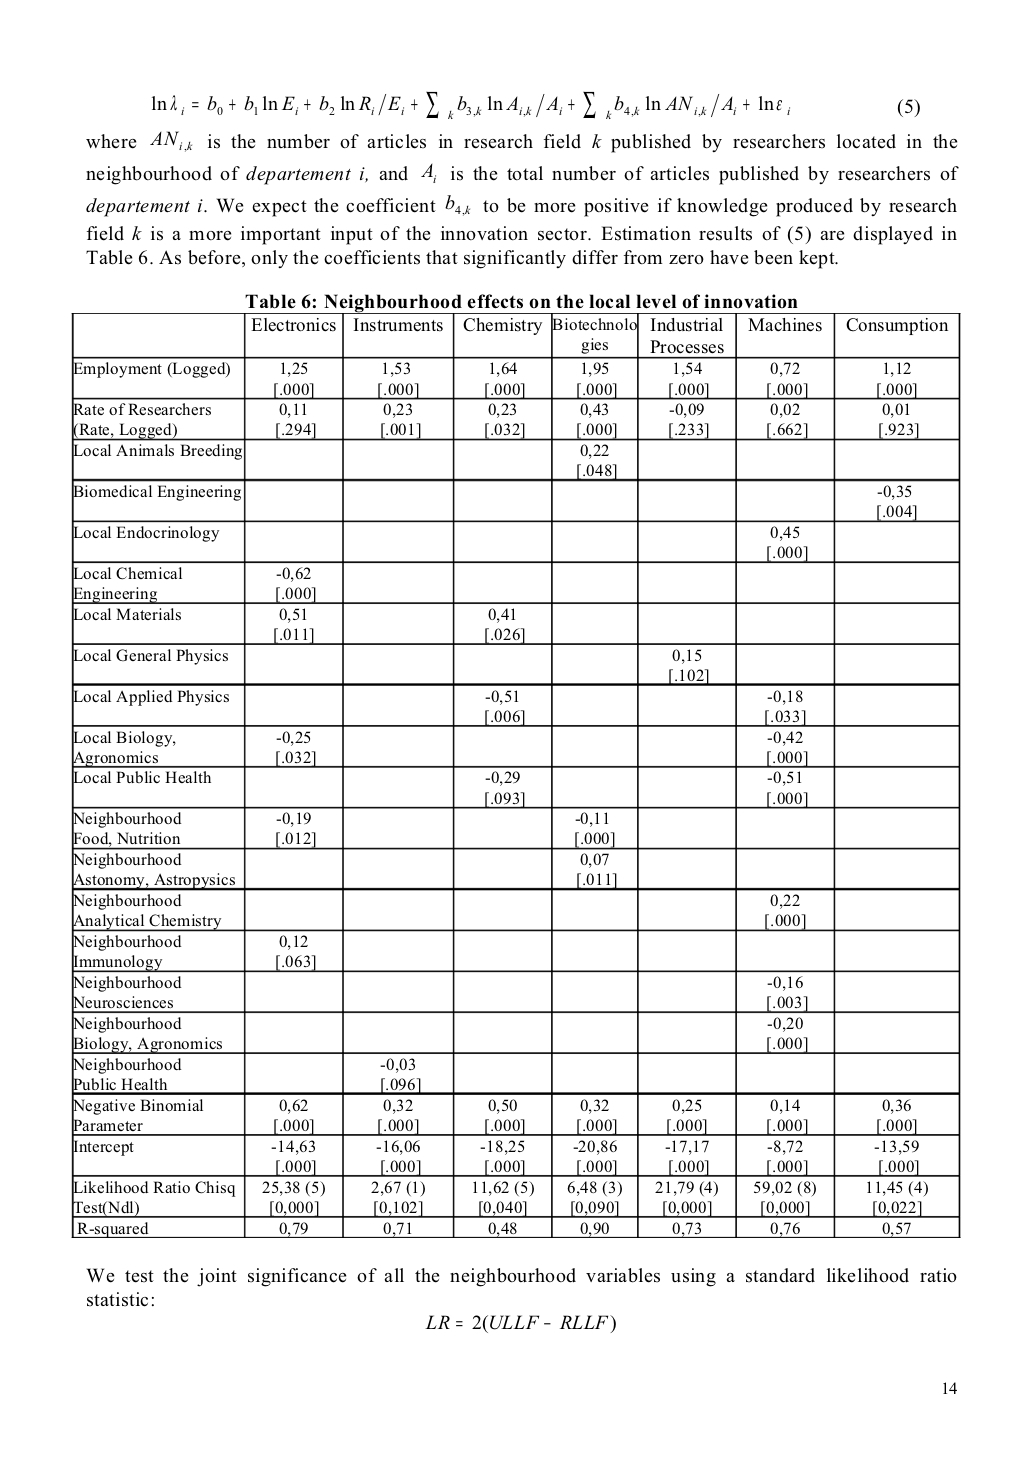Table: (71, 311, 960, 1237)
formula: (151, 90, 919, 119), (425, 1314, 615, 1333)
